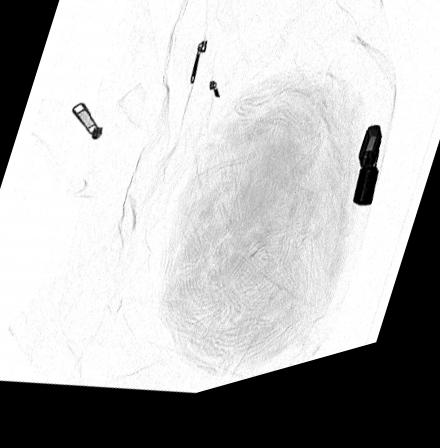Lighter: (350, 146, 381, 227)
